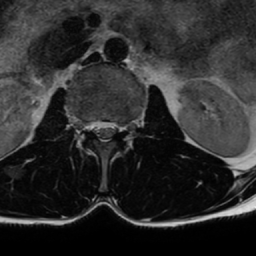CCS_normal: (100, 109, 109, 151)
LFS_normal: (118, 112, 127, 141)
LLS_normal: (109, 110, 118, 144)
RFS_normal: (81, 110, 90, 140)
RLS_normal: (90, 109, 100, 143)
